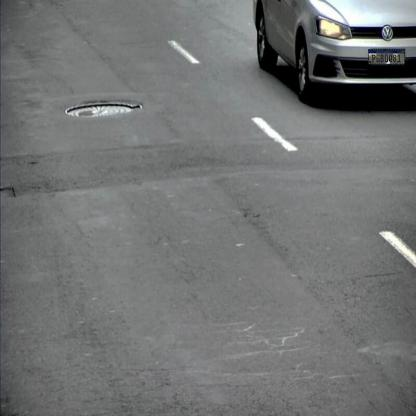PlacaM: (368, 49, 405, 65)
